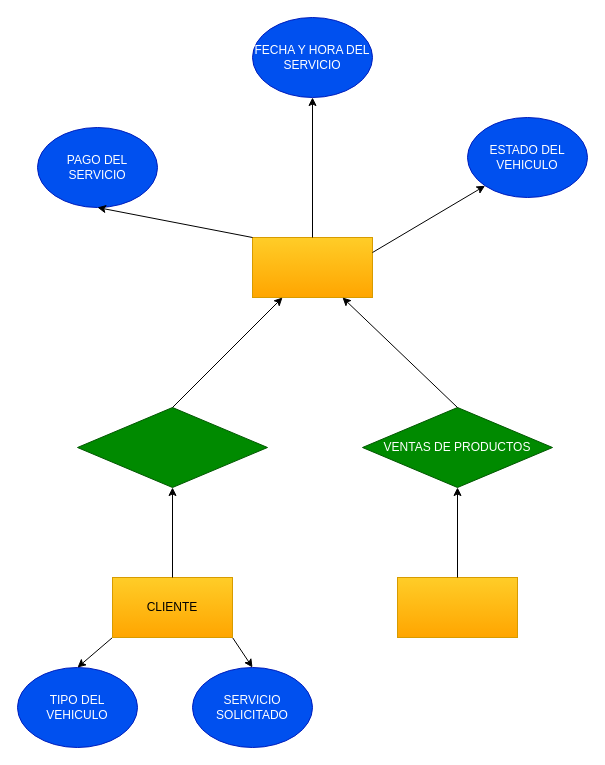
The diagram is 605 pixels wide and 765 high, and some of its shapes have lost their labels. The shapes that lost their labels are listed below. From the top down, each one's centre as x and y in pixels, then its label:
At (x=312, y=267): "AUTOLAVADO".
At (x=172, y=447): "SOLICITUD DEL TIPO DE SERVICIO".
At (x=457, y=607): "PROOVEDORES".
